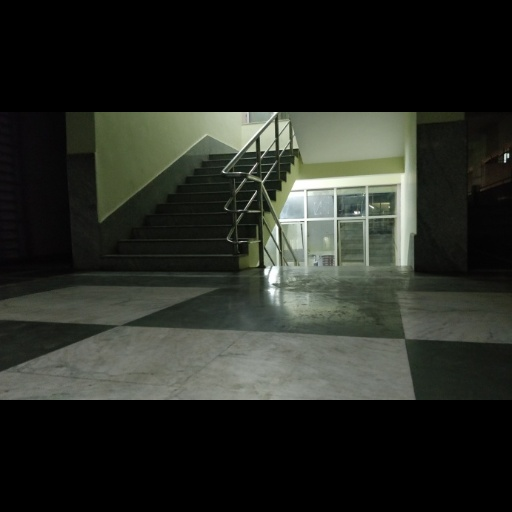Stairs: (104, 154, 248, 271), (265, 153, 294, 200)
